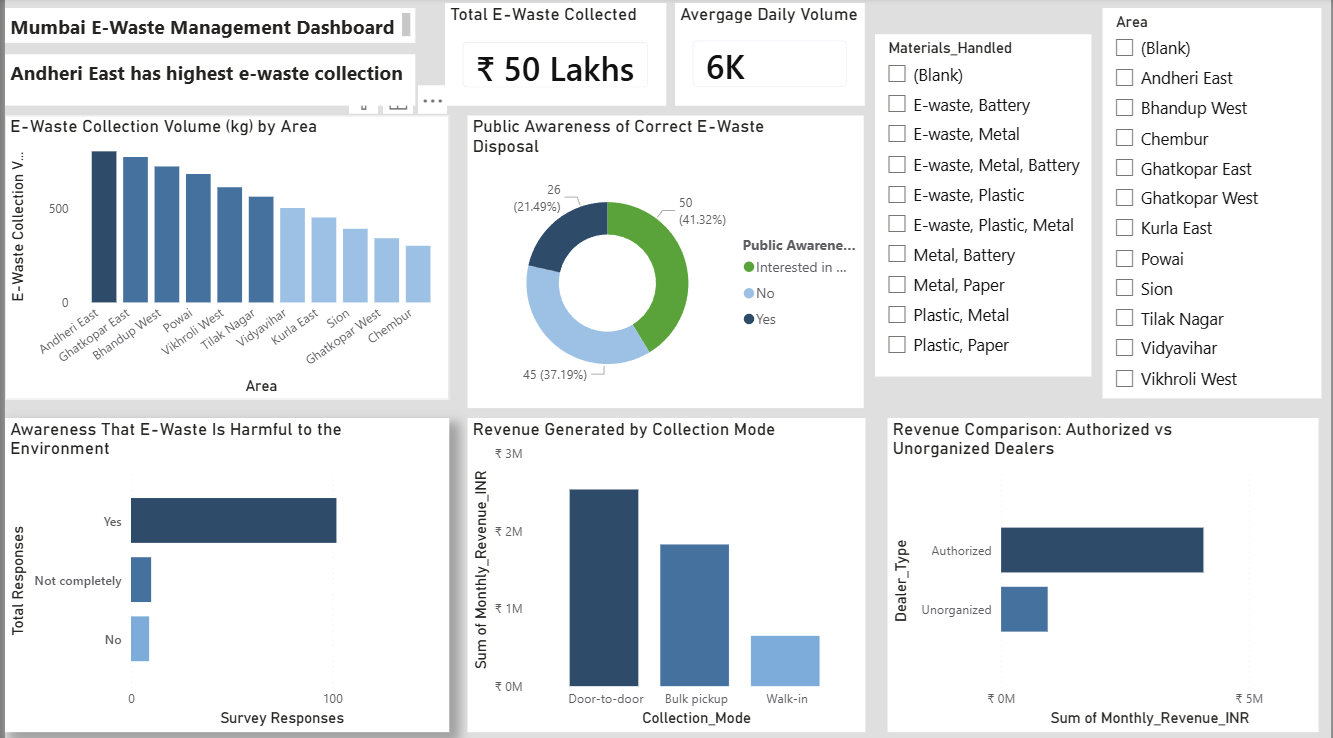

The dashboard page shown, as its layout file describes it:
{"tool":"powerbi","page":{"name":"Mumbai E-Waste Management Dashboard","canvas":[1280,720],"ordinal":0},"visuals":[{"type":"clusteredColumnChart","fields":{"Y":["Sum(Scrap_Dealers.Avg_Daily_Volume_kg)"],"Category":["Scrap_Dealers.Area"]},"box":[0,113,428.4,274.4],"z":0},{"type":"clusteredBarChart","title":"Awareness That E-Waste Is Harmful to the Environment","fields":{"Category":["Survey_Responses.Are_you_aware_that_e-waste_is_harmful_to_the_environment?"],"Y":["CountNonNull(Survey_Responses.Timestamp)"]},"box":[0,404.8,428.4,303],"z":1000},{"type":"clusteredColumnChart","title":"Revenue Generated by Collection Mode","fields":{"Category":["Scrap_Dealers.Collection_Mode"],"Y":["Sum(Scrap_Dealers.Monthly_Revenue_INR)"]},"box":[446.4,405.4,383.6,302.8],"z":2000},{"type":"clusteredBarChart","title":"Revenue Comparison: Authorized vs Unorganized Dealers","fields":{"Category":["Scrap_Dealers.Dealer_Type"],"Y":["Sum(Scrap_Dealers.Monthly_Revenue_INR)"]},"box":[851.8,404.8,416,303],"z":3000},{"type":"donutChart","title":"Public Awareness of Correct E-Waste Disposal","fields":{"Category":["Survey_Responses.Do_you_know_correct_way_dispose_of_e-waste?"],"Y":["CountNonNull(Survey_Responses.Response_ID)"]},"box":[446.4,113.4,382.4,282.3],"z":4000},{"type":"cardVisual","title":"Total E-Waste Collected","fields":{"Data":["Scrap_Dealers.Revenue (Lakhs)"]},"box":[424.7,5,213.6,99.3],"z":5000},{"type":"slicer","fields":{"Values":["Scrap_Dealers.Materials_Handled"]},"box":[839.7,35,208.7,330.6],"z":6000},{"type":"slicer","fields":{"Values":["Scrap_Dealers.Area"]},"box":[1059.3,9.7,211.1,376.4],"z":7000},{"type":"cardVisual","title":"Avergage Daily Volume","fields":{"Data":["Sum(Scrap_Dealers.Avg_Daily_Volume_kg)"]},"box":[646.7,4.8,183.4,98.9],"z":8000},{"type":"textbox","box":[0,9.9,396.1,33.5],"z":9000},{"type":"textbox","box":[0,54.6,396.1,49.7],"z":10000}]}

Visuals, with their boxes in screenshot pixels (x1, y1, x2, y2), scaled from the page's 1280x720 canvas onto the 1333x738 screenshot:
clusteredColumnChart - Sum(Scrap_Dealers.Avg_Daily_Volume_kg) x Scrap_Dealers.Area: [left=0, top=116, right=446, bottom=397]
"Awareness That E-Waste Is Harmful to the Environment" clusteredBarChart: [left=0, top=415, right=446, bottom=725]
"Revenue Generated by Collection Mode" clusteredColumnChart: [left=465, top=416, right=864, bottom=726]
"Revenue Comparison: Authorized vs Unorganized Dealers" clusteredBarChart: [left=887, top=415, right=1320, bottom=725]
"Public Awareness of Correct E-Waste Disposal" donutChart: [left=465, top=116, right=863, bottom=406]
"Total E-Waste Collected" cardVisual: [left=442, top=5, right=665, bottom=107]
slicer - Scrap_Dealers.Materials_Handled: [left=874, top=36, right=1092, bottom=375]
slicer - Scrap_Dealers.Area: [left=1103, top=10, right=1323, bottom=396]
"Avergage Daily Volume" cardVisual: [left=673, top=5, right=864, bottom=106]
textbox: [left=0, top=10, right=413, bottom=44]
textbox: [left=0, top=56, right=413, bottom=107]
